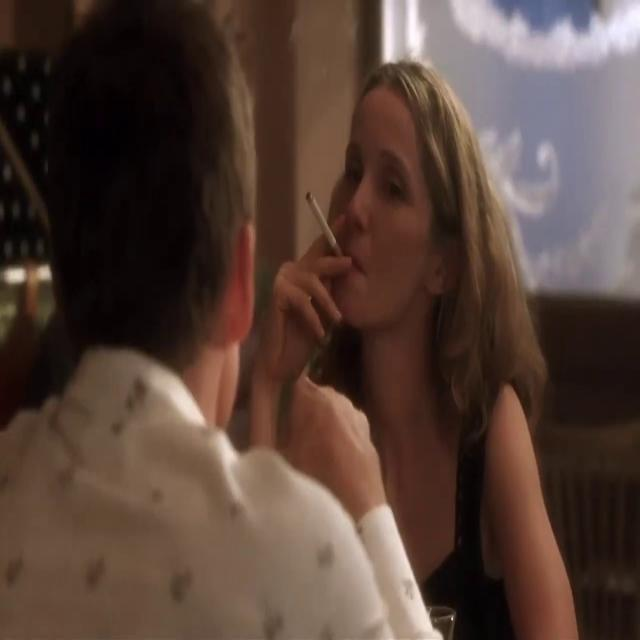Smooking: (299, 182, 338, 260)
